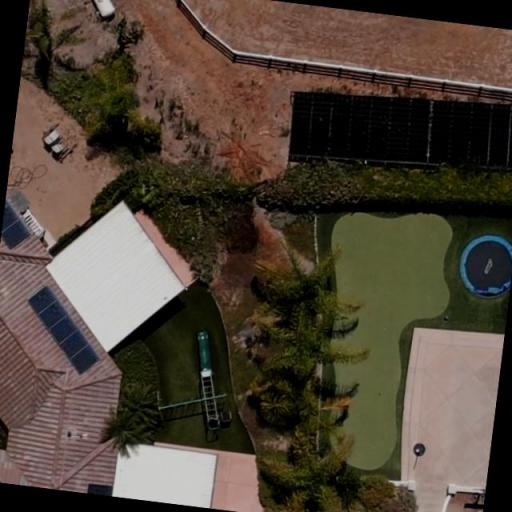solar-panel: (287, 90, 512, 170), (25, 285, 101, 375), (0, 197, 31, 249), (87, 484, 113, 496)
